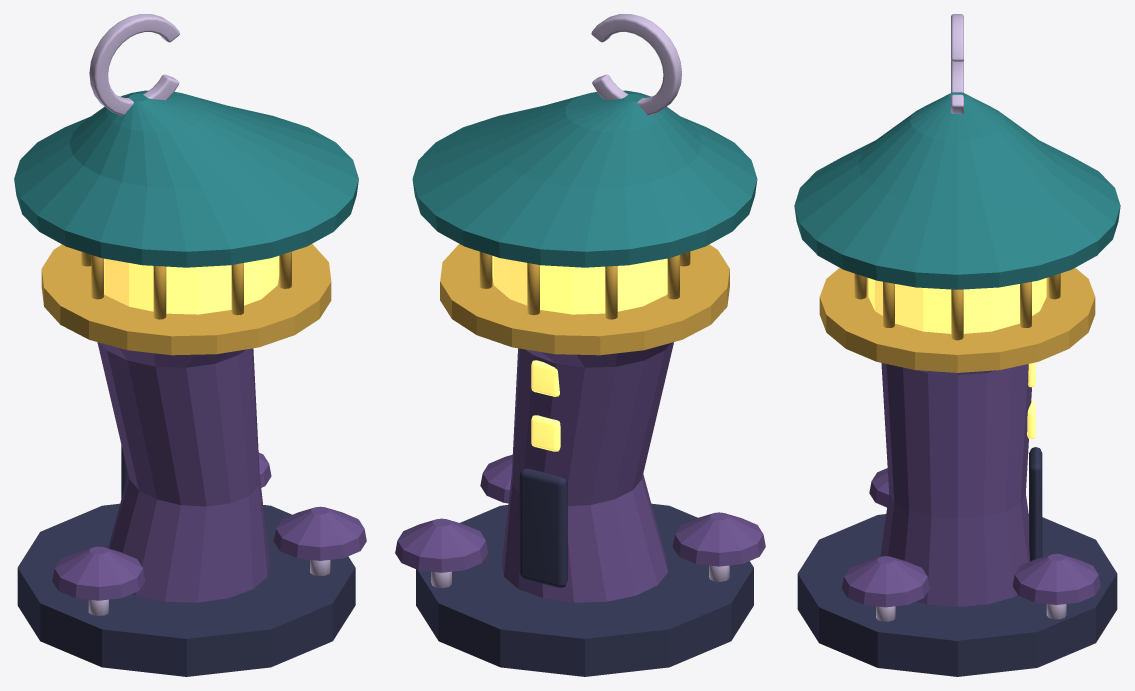
Rendered from moonwood-observatory.glb.
The picture shows the model from 3 angles, left to right: view 1: azimuth 30°, elevation 25°; view 2: azimuth 150°, elevation 25°; view 3: azimuth 270°, elevation 25°; orthographic projection. The views are drawn at different scales.
Parts seen in each view (by area): view 1: Structure; view 2: Structure; view 3: Structure.
Part boxes in pixels (x1,y1,x2,y2): Structure: (14, 14, 366, 676); Structure: (395, 14, 765, 676); Structure: (794, 14, 1120, 676).
Size of the model in its own units: 2.98 by 5.69 by 2.96.
